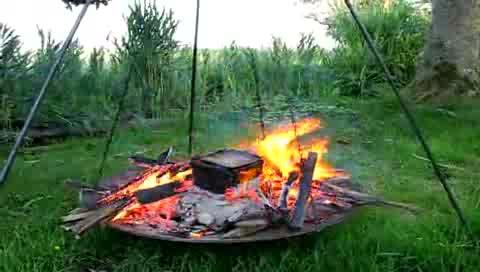fire: (114, 109, 348, 227)
